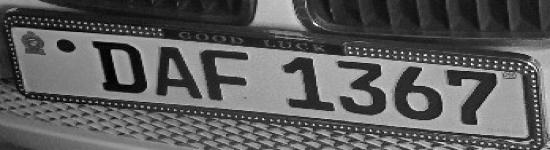1: (276, 54, 338, 116)
3: (333, 56, 389, 118)
6: (390, 63, 447, 123)
7: (446, 64, 500, 129)
A: (151, 44, 204, 103)
D: (87, 38, 152, 97)
F: (198, 46, 254, 103)
